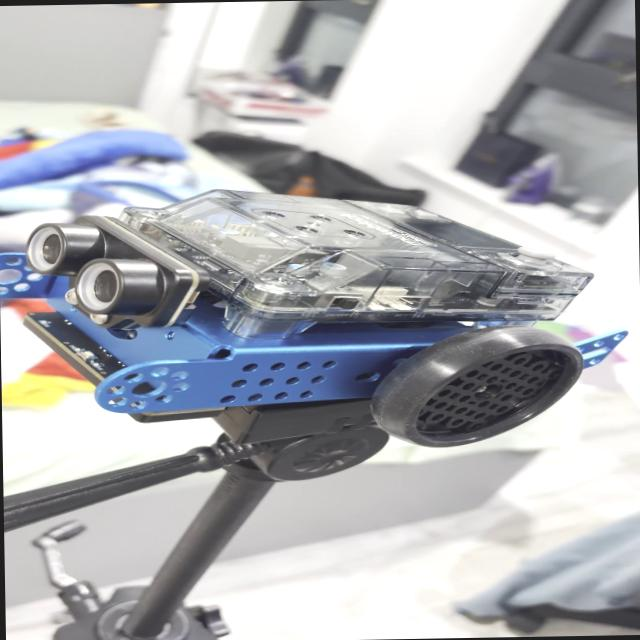mbot-detection: (0, 174, 633, 461)
